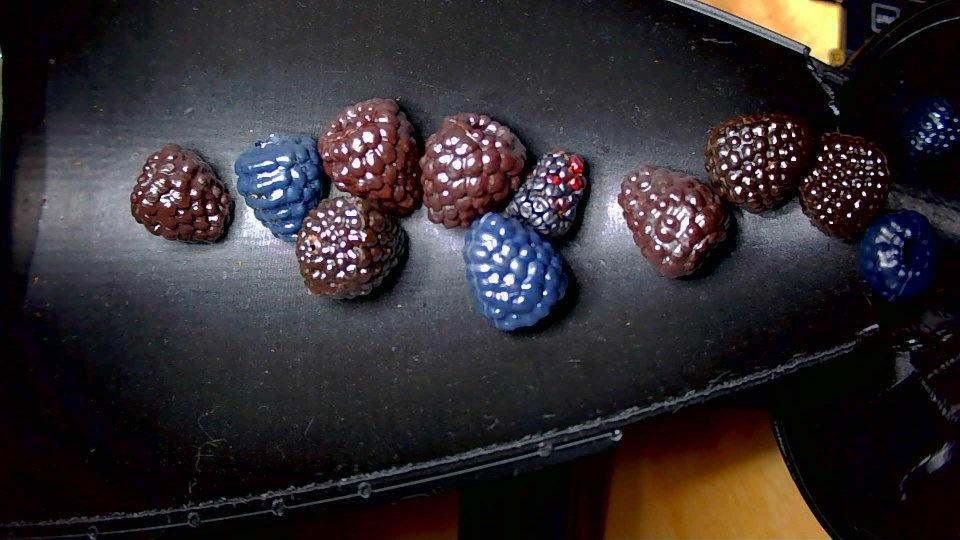berry: (617, 165, 730, 277), (462, 213, 567, 330), (420, 113, 526, 227), (317, 99, 420, 215), (296, 196, 405, 298), (705, 113, 811, 212), (131, 143, 231, 243), (235, 134, 326, 241), (800, 133, 889, 239), (505, 150, 586, 238), (860, 210, 938, 298), (907, 99, 959, 155)
